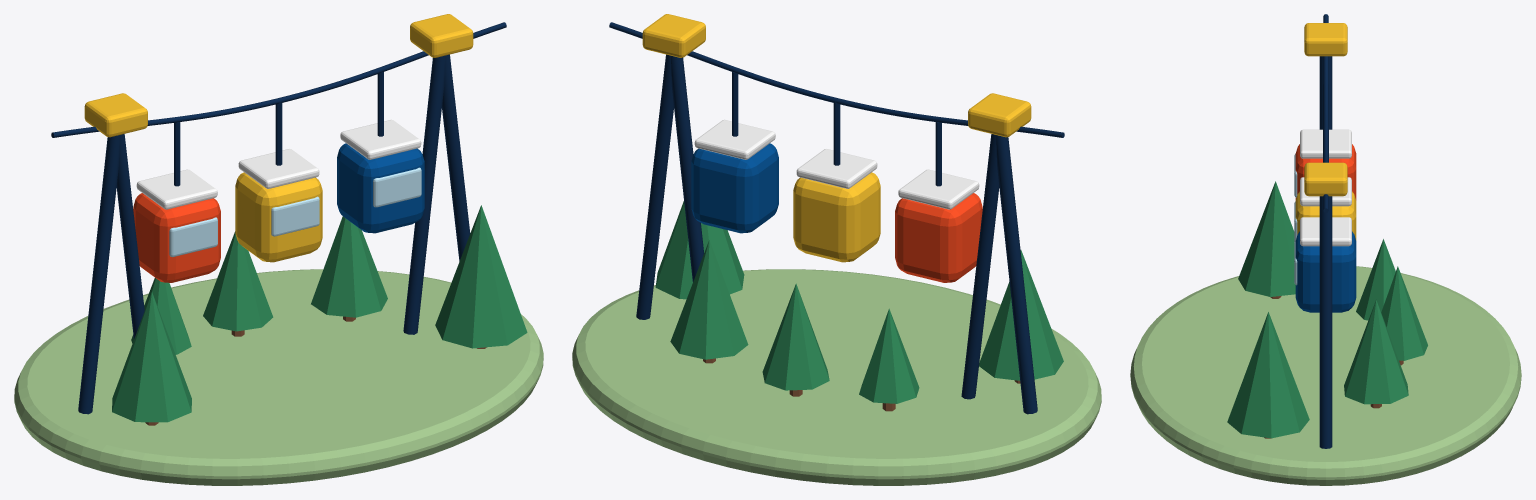
File: 04-alpine-springs-gondola.glb
The picture shows the model from 3 angles, left to right: view 1: azimuth 30°, elevation 25°; view 2: azimuth 150°, elevation 25°; view 3: azimuth 270°, elevation 25°; orthographic projection. The views are drawn at different scales.
Parts seen in each view (by area): view 1: Base.003, Pine.004, Pine.003, Cabin.001, Cabin.002, Cabin, Pine.002, Tower Leg, Pine.001, Tower Leg.002, Tower Leg.003, Tower Leg.001 (+10 smaller); view 2: Base.003, Cabin.001, Cabin.002, Cabin, Pine.002, Pine.003, Tower Leg, Pine.001, Tower Leg.001, Tower Leg.003, Pine.004, Pine (+7 smaller); view 3: Base.003, Pine.004, Pine.003, Pine.002, Tower Leg.003, Cabin.002, Pine.001, Pine, Tower Head.001, Tower Head, Cabin Roof, Cabin Roof.002 (+5 smaller).
Boxes of the visible parts, x1,y1,x2,y2 form: Base.003: (14, 269, 543, 485); Pine.004: (435, 205, 527, 348); Pine.003: (112, 292, 191, 422); Cabin.001: (235, 172, 322, 262); Cabin.002: (337, 143, 424, 233); Cabin: (133, 193, 220, 282); Pine.002: (311, 216, 387, 317); Tower Leg: (78, 135, 119, 414); Pine.001: (203, 231, 273, 331); Tower Leg.002: (403, 55, 444, 334); Tower Leg.003: (442, 54, 470, 261); Tower Leg.001: (116, 134, 144, 338); Base.003: (572, 269, 1101, 485); Cabin.001: (793, 172, 880, 262); Cabin.002: (691, 143, 778, 233); Cabin: (895, 193, 982, 282); Pine.002: (670, 240, 748, 359); Pine.003: (979, 250, 1063, 380); Tower Leg: (996, 135, 1037, 414); Pine.001: (762, 283, 829, 390); Tower Leg.001: (961, 134, 999, 399); Tower Leg.003: (636, 54, 673, 319); Pine.004: (655, 201, 744, 299); Pine: (859, 308, 919, 403); Base.003: (1130, 266, 1521, 485); Pine.004: (1227, 312, 1309, 438); Pine.003: (1238, 181, 1295, 296); Pine.002: (1344, 300, 1408, 404); Tower Leg.003: (1319, 196, 1332, 448); Cabin.002: (1295, 231, 1356, 312); Pine.001: (1381, 266, 1427, 360); Pine: (1356, 239, 1395, 320); Tower Head.001: (1304, 162, 1347, 196); Tower Head: (1304, 23, 1347, 56); Cabin Roof: (1300, 129, 1351, 158); Cabin Roof.002: (1300, 217, 1351, 246).
Size of the model in its own units: 3.4 by 2.2 by 2.72.
